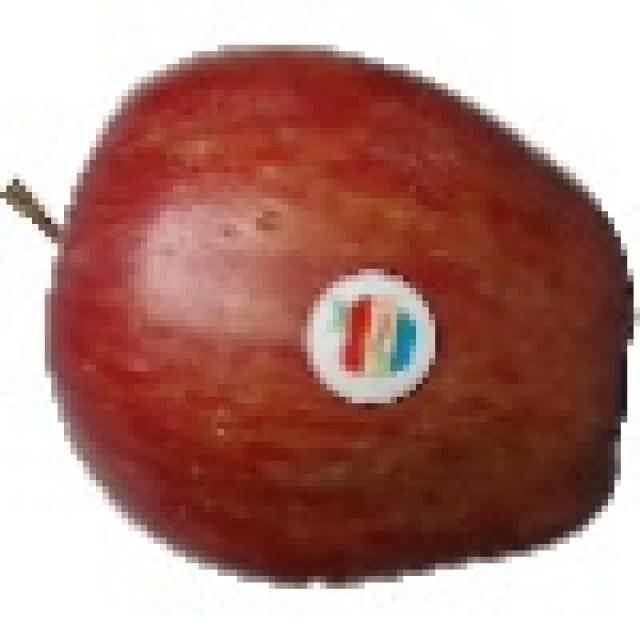apple: (10, 16, 633, 625)
